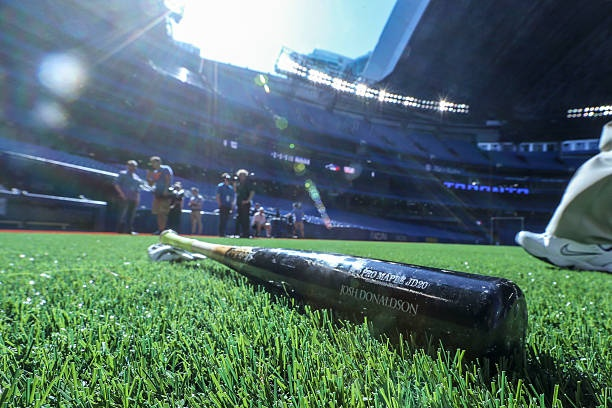bita: (159, 231, 518, 349)
